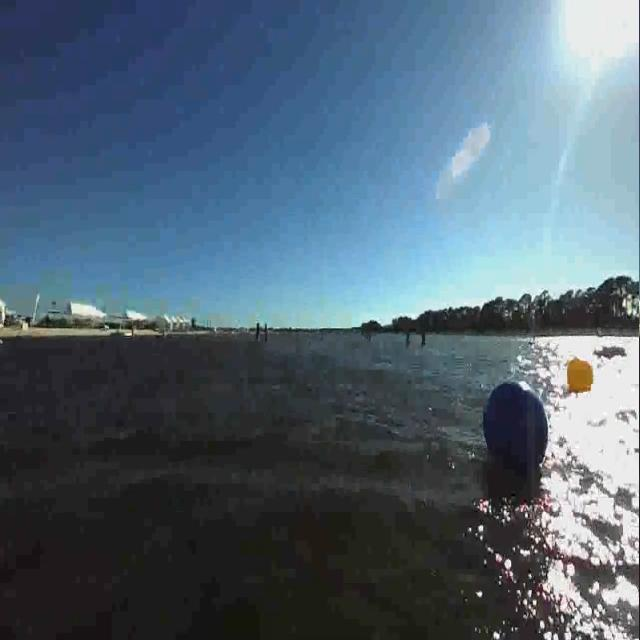black-buoy: (482, 377, 550, 474)
yellow-buoy: (568, 357, 592, 397)
